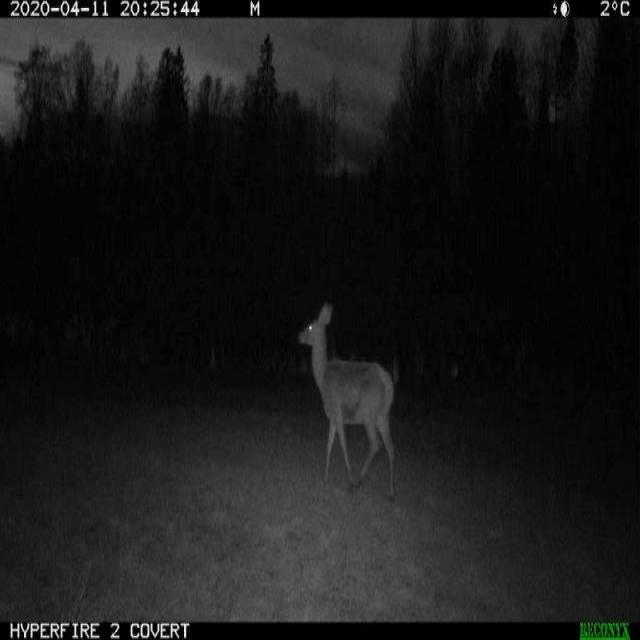deer: (285, 291, 404, 506), (20, 254, 119, 445)
